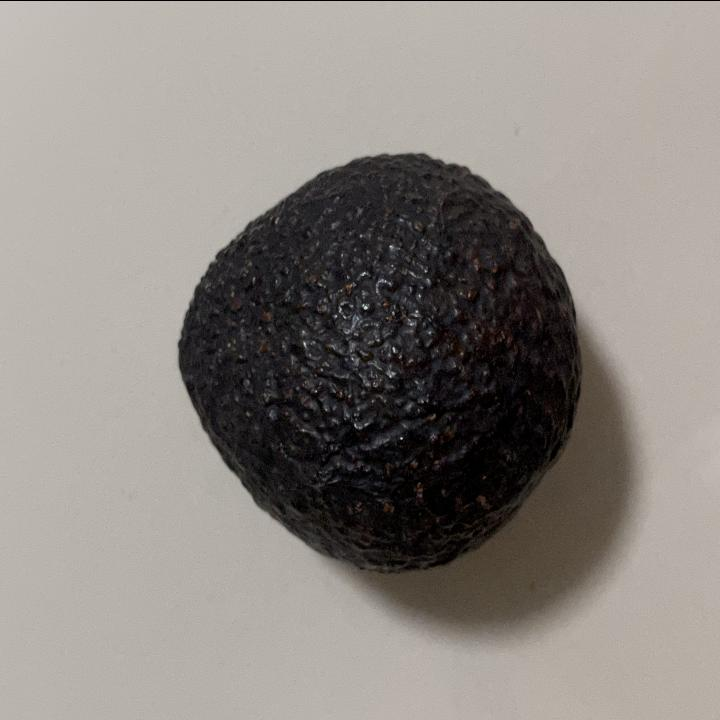Level2: (168, 140, 588, 584)
